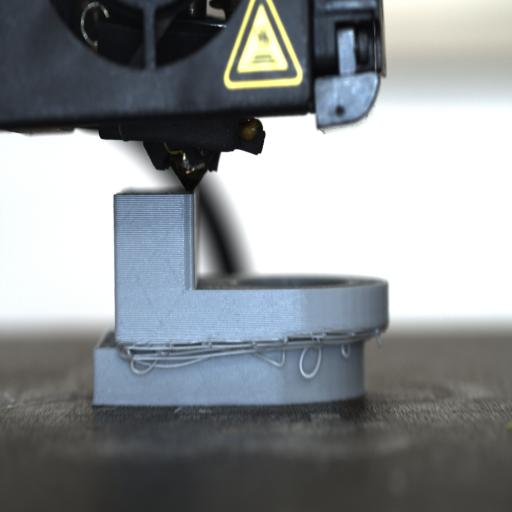layer_shift: (90, 325, 391, 352)
